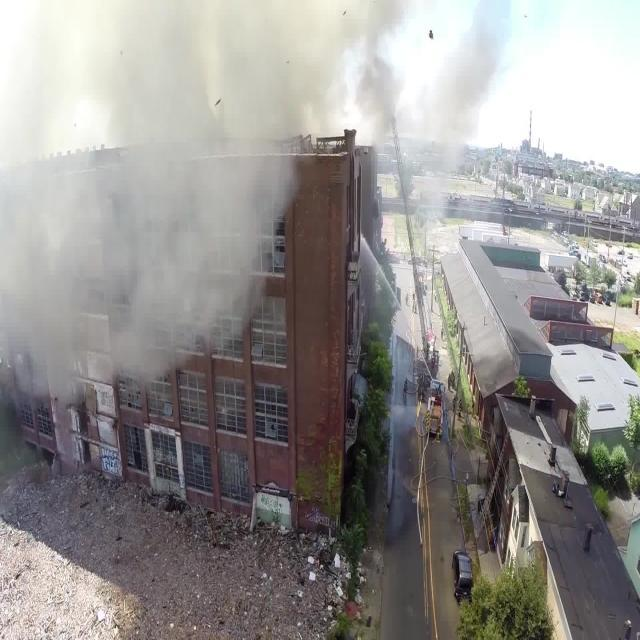Smoke: (4, 0, 506, 433)
